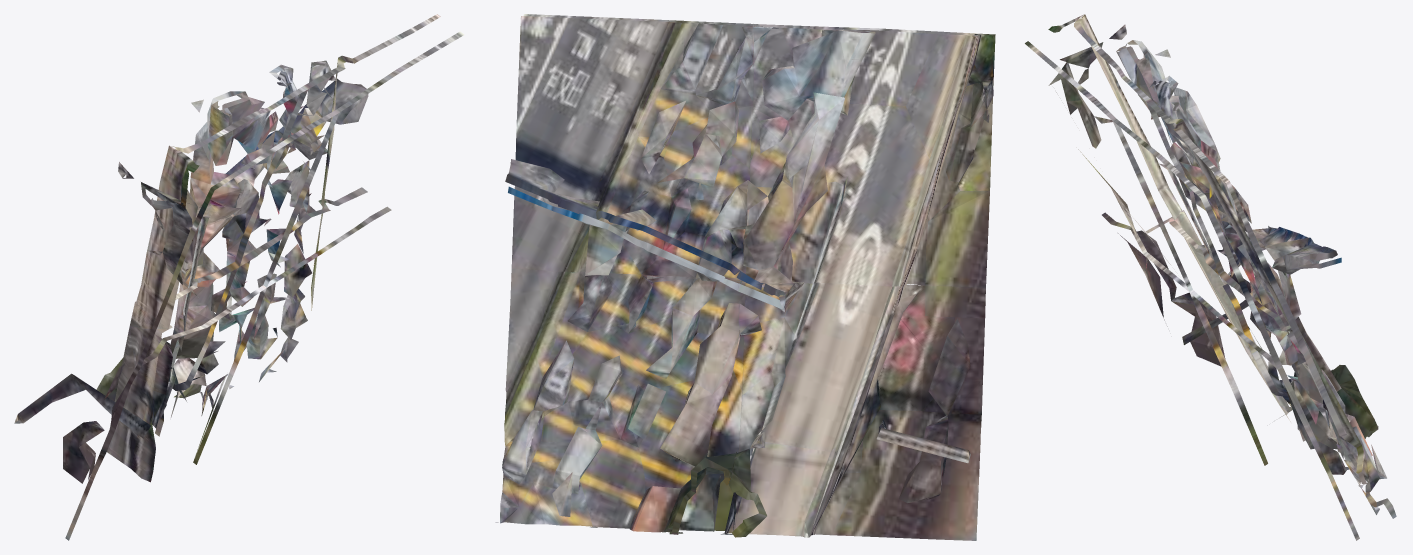
The model's file is AJVsH2wJU7UvgwEElfihE08i133FkoINcOS_tw3ZApB-xXQiGWlprTIHI5mXPhd1_ochdmFLB_SH8LefgNSrDZAgu9pJJx8q-3kDmRsCuktj6f9Jg2fsFlkN1taNOb-WSRUvZ2D-g3U0xgUrfR2vlj4NtCQ-.glb.
The picture shows the model from 3 angles, left to right: view 1: azimuth 30°, elevation 25°; view 2: azimuth 150°, elevation 25°; view 3: azimuth 270°, elevation 25°; orthographic projection. The views are drawn at different scales.
Bounding box in the file's own units: 40.16 × 38.12 × 32.
Materials: 1 (1 with a texture image).
